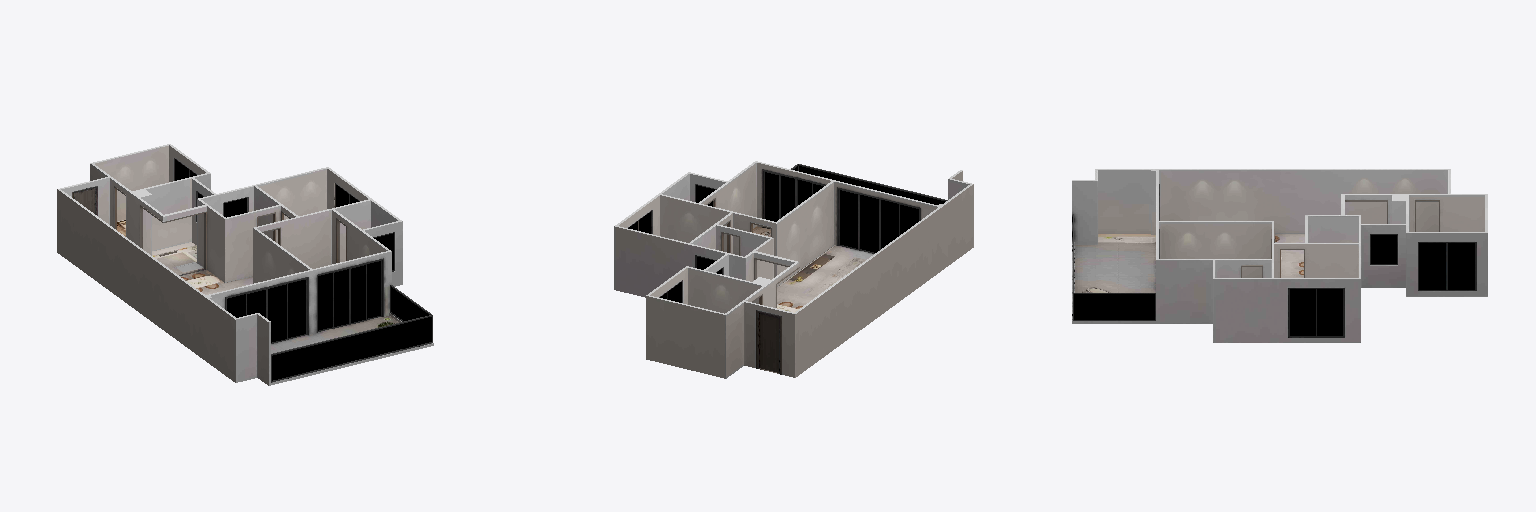
3 renders of one model, left to right at view 1: azimuth 30°, elevation 25°; view 2: azimuth 150°, elevation 25°; view 3: azimuth 270°, elevation 25°, orthographic.
Visible parts, largest first — view 1: SM_A1_QS_00, SM_A1_GLASS, SM_A1_QS_05, SM_A1_QS_01, SM_A1_QS_03, SM_A1_QS_04, SM_A1_QS_02; view 2: SM_A1_QS_00, SM_A1_GLASS, SM_A1_QS_05, SM_A1_QS_01, SM_A1_QS_04, SM_A1_QS_03, SM_A1_QS_02; view 3: SM_A1_QS_00, SM_A1_QS_01, SM_A1_GLASS, SM_A1_QS_02, SM_A1_QS_03, SM_A1_QS_04, SM_A1_QS_05.
Part boxes in pixels (x1,y1,x2,y2): SM_A1_QS_00: (57, 144, 402, 385); SM_A1_GLASS: (175, 159, 431, 380); SM_A1_QS_05: (72, 145, 308, 343); SM_A1_QS_01: (61, 178, 309, 283); SM_A1_QS_03: (257, 200, 397, 332); SM_A1_QS_04: (201, 169, 433, 384); SM_A1_QS_02: (117, 220, 398, 353); SM_A1_QS_00: (614, 161, 973, 378); SM_A1_GLASS: (628, 166, 944, 302); SM_A1_QS_05: (650, 187, 920, 374); SM_A1_QS_01: (719, 182, 937, 307); SM_A1_QS_04: (619, 164, 947, 267); SM_A1_QS_03: (662, 163, 830, 236); SM_A1_QS_02: (753, 226, 873, 373); SM_A1_QS_00: (1072, 169, 1487, 342); SM_A1_QS_01: (1159, 170, 1447, 233); SM_A1_GLASS: (1074, 235, 1474, 335); SM_A1_QS_02: (1075, 234, 1304, 292); SM_A1_QS_03: (1159, 222, 1274, 277); SM_A1_QS_04: (1072, 214, 1358, 337); SM_A1_QS_05: (1159, 184, 1484, 290).
Bounding box in the file's own units: 366 × 98.43 × 583.
Materials: 7 (6 with a texture image).